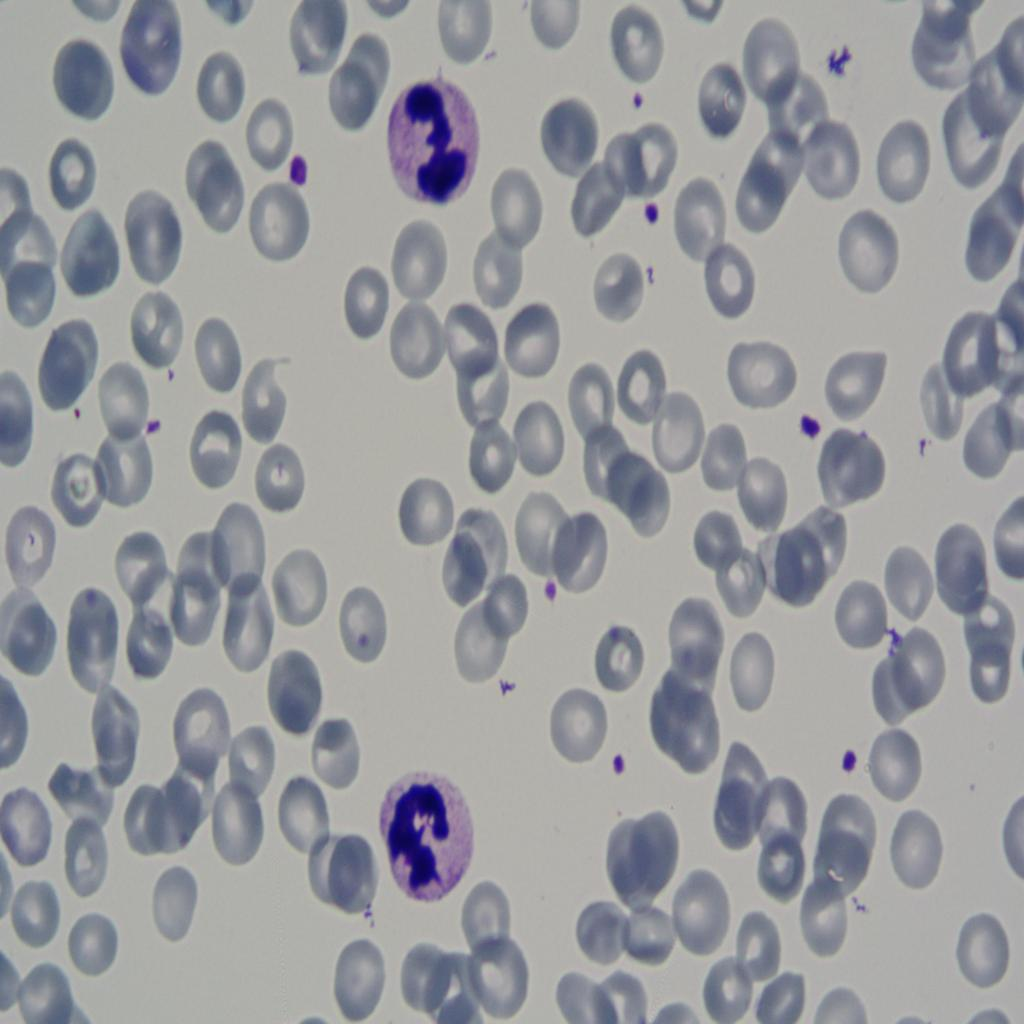Neutrofil: (380, 744, 477, 916), (377, 55, 479, 213)
Platelet: (790, 391, 828, 458), (274, 154, 321, 202), (822, 30, 856, 91), (530, 573, 568, 611), (606, 740, 631, 790), (634, 197, 663, 234), (835, 739, 856, 780), (624, 84, 642, 124)
